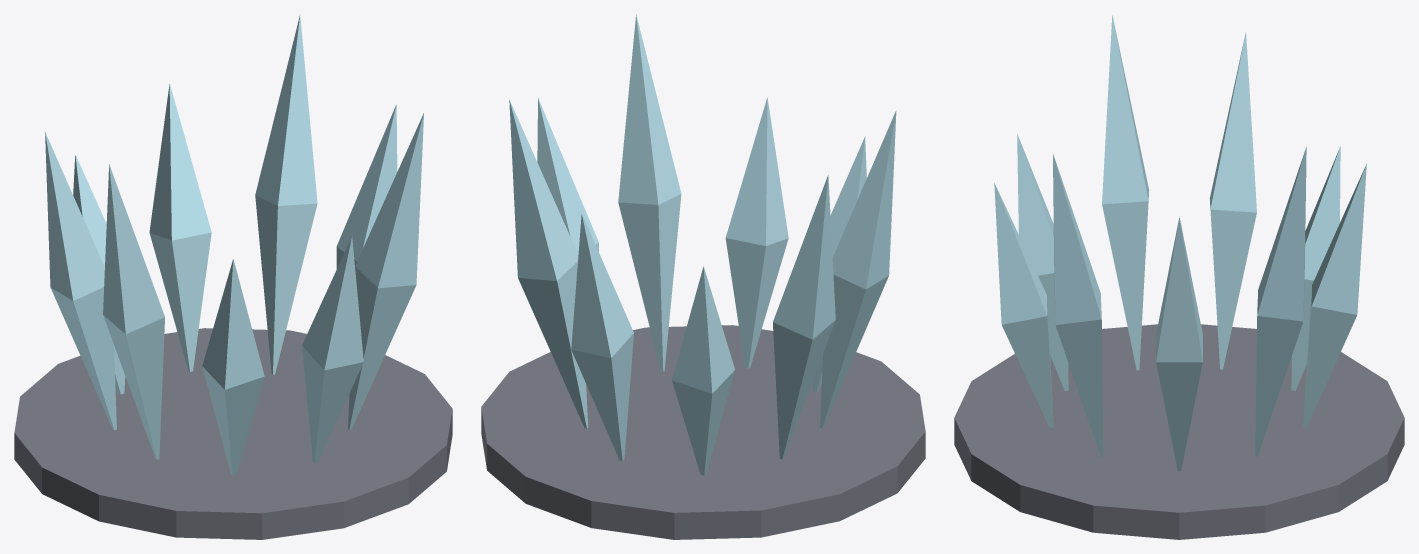
File: CrystalSeal.fbx
The picture shows the model from 3 angles, left to right: view 1: azimuth 30°, elevation 25°; view 2: azimuth 150°, elevation 25°; view 3: azimuth 270°, elevation 25°; orthographic projection.
Visible parts, largest first — view 1: CrystalSeal; view 2: CrystalSeal; view 3: CrystalSeal.
Boxes of the visible parts, x1=… form: CrystalSeal: x1=14, y1=14, x2=452, y2=539; CrystalSeal: x1=481, y1=14, x2=925, y2=539; CrystalSeal: x1=954, y1=15, x2=1404, y2=539.
Size of the model in its own units: 3 by 2.67 by 3.
